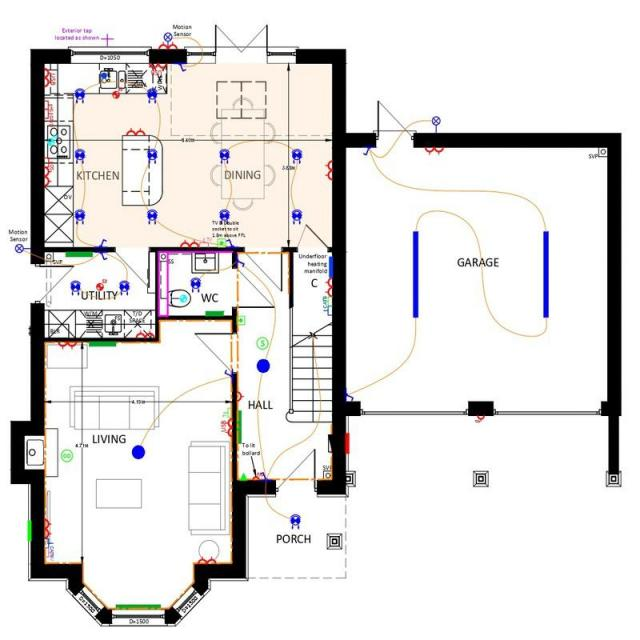BT Entry Point: (240, 473, 247, 479)
Cat 6 Data Socket: (44, 538, 54, 556), (322, 297, 331, 315)
Ceiling Mounted Continuous Extract FanWith Boost Mode Activated By Light Switch: (178, 294, 186, 301)
Ceiling Mounted Continuous Extract FanWith Local Boost Switch: (111, 86, 122, 98), (95, 278, 106, 290)
Co-Ax TV Socket: (43, 547, 54, 561), (198, 237, 212, 246)
Consumer Unit: (327, 434, 331, 451)
Double Socket: (196, 555, 217, 563), (424, 146, 443, 154), (57, 341, 76, 349), (43, 168, 51, 186), (126, 127, 144, 135), (44, 518, 51, 538), (324, 278, 332, 295), (324, 160, 331, 179), (135, 329, 154, 336), (179, 240, 198, 247), (158, 41, 176, 48)
Electric Meter Box: (344, 432, 349, 454)
External Wall Light: (13, 243, 30, 253), (431, 115, 440, 132), (163, 32, 172, 46)
Fused spur: (252, 471, 262, 479)
Gas Meter Box: (28, 520, 30, 542)
Grid Switch: (44, 108, 53, 126)
Hob Switch: (43, 100, 52, 110)
Light Switch: (177, 62, 186, 72), (99, 251, 107, 260), (362, 146, 370, 154), (98, 238, 106, 246), (222, 369, 230, 376), (226, 238, 233, 245), (346, 392, 352, 400), (238, 258, 244, 266), (260, 471, 266, 479)
Low Energy Downlighter: (74, 87, 85, 103), (74, 148, 85, 163), (146, 148, 157, 163), (74, 209, 85, 224), (146, 209, 157, 224), (218, 148, 229, 163), (291, 148, 302, 163), (291, 209, 302, 223), (118, 280, 129, 294), (218, 209, 229, 222), (146, 88, 156, 102), (70, 280, 80, 294), (190, 277, 200, 291), (290, 514, 300, 528)
Low Energy Pendant Light: (256, 358, 269, 372), (131, 444, 144, 458)
Mains Wired Smoke Detector: (256, 337, 268, 349)
Outside Socket: (474, 414, 484, 422)
Outside Tap: (101, 32, 113, 46)
Oven Switch: (44, 158, 53, 168)
Programmable Room Thermostat: (236, 315, 244, 324), (217, 238, 225, 246)
Radiator: (115, 603, 160, 608), (65, 251, 92, 256), (88, 341, 115, 346), (237, 410, 241, 443), (205, 310, 223, 314)
Recirculating Extractor Fan: (46, 133, 57, 145)
Single Socket: (236, 390, 243, 401)
Telephone Socket: (321, 296, 331, 306), (221, 407, 231, 417)
Twin LED Strip Light: (542, 230, 548, 318), (412, 230, 418, 317)
USB Double Socket: (44, 67, 55, 87), (219, 418, 231, 436), (149, 64, 166, 74)
Underfloor Heating Manifold: (328, 256, 331, 277)
Water Entry Position: (100, 72, 106, 78)
